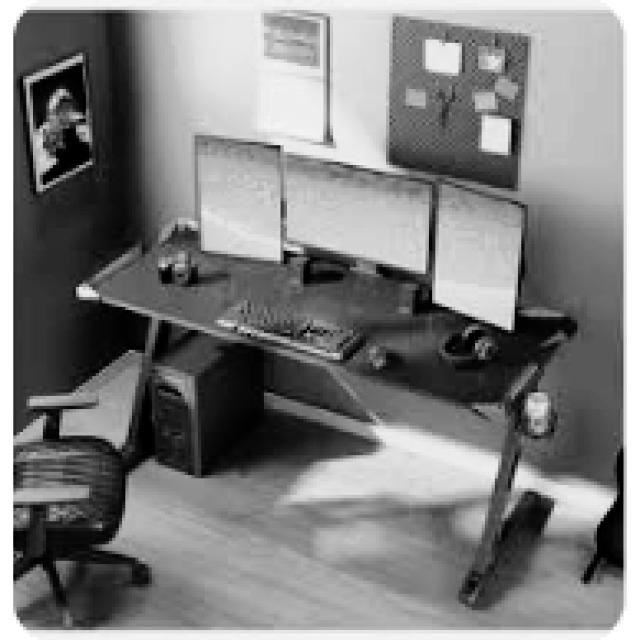table: (73, 227, 577, 604)
